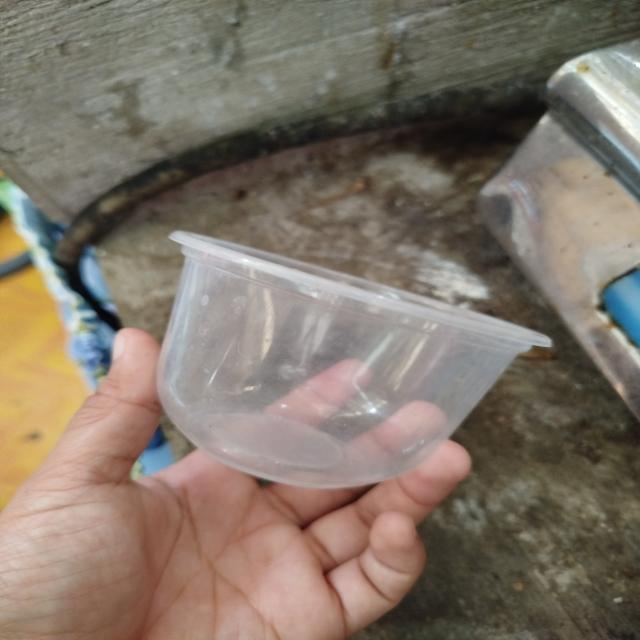plastic: (111, 202, 576, 512)
